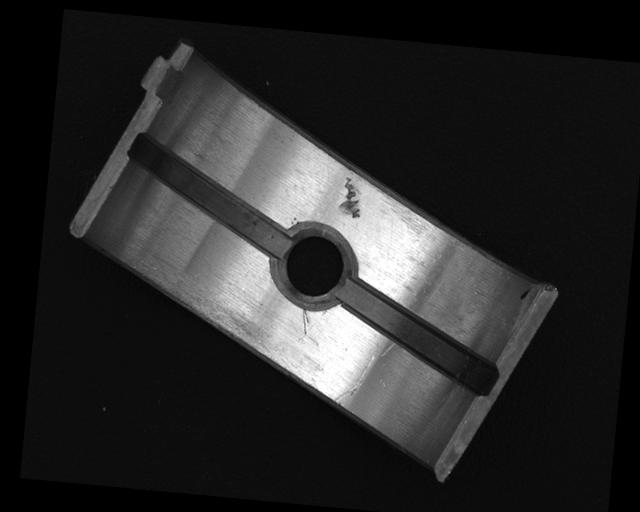blot: (517, 284, 535, 301)
bruise: (339, 176, 364, 219)
gap: (122, 134, 300, 259), (330, 279, 502, 394)
hole: (269, 222, 358, 308)
nick: (333, 348, 378, 406), (300, 308, 311, 336)
scratch: (123, 252, 278, 354)
